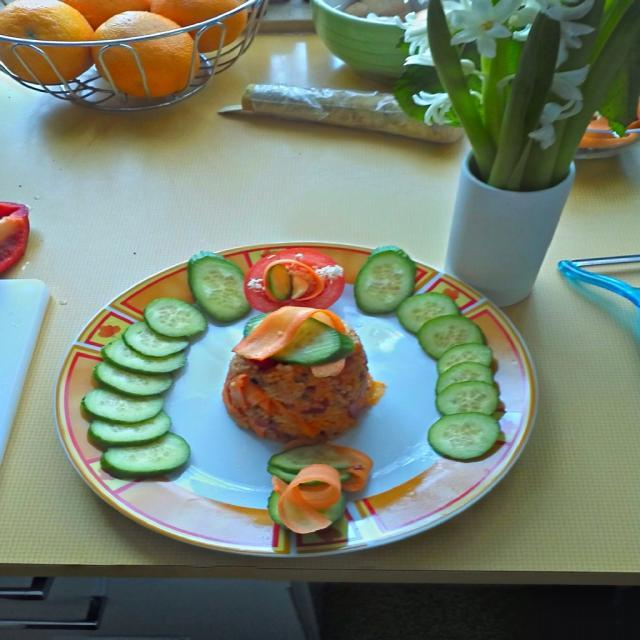Orange: (95, 2, 191, 92), (0, 1, 95, 86), (147, 2, 243, 40), (70, 0, 148, 18)
